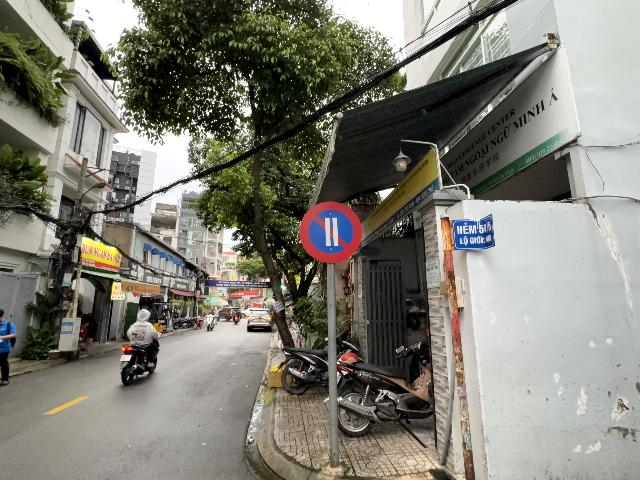cam-do-xe-ngay-chan: (300, 202, 362, 264)
